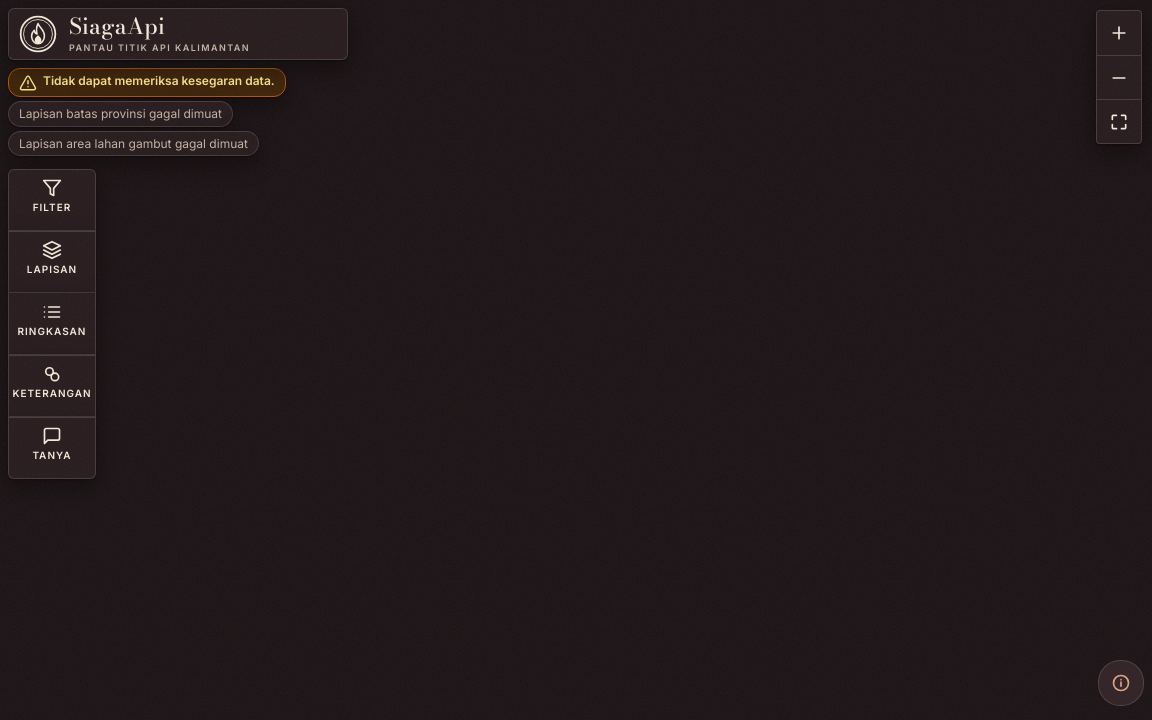
Scenario: opening a panel closes the one that was open
This screenshot has width=1152, height=720.
Click the button "Filter". click: click(52, 200)
box: [9,178,95,222]
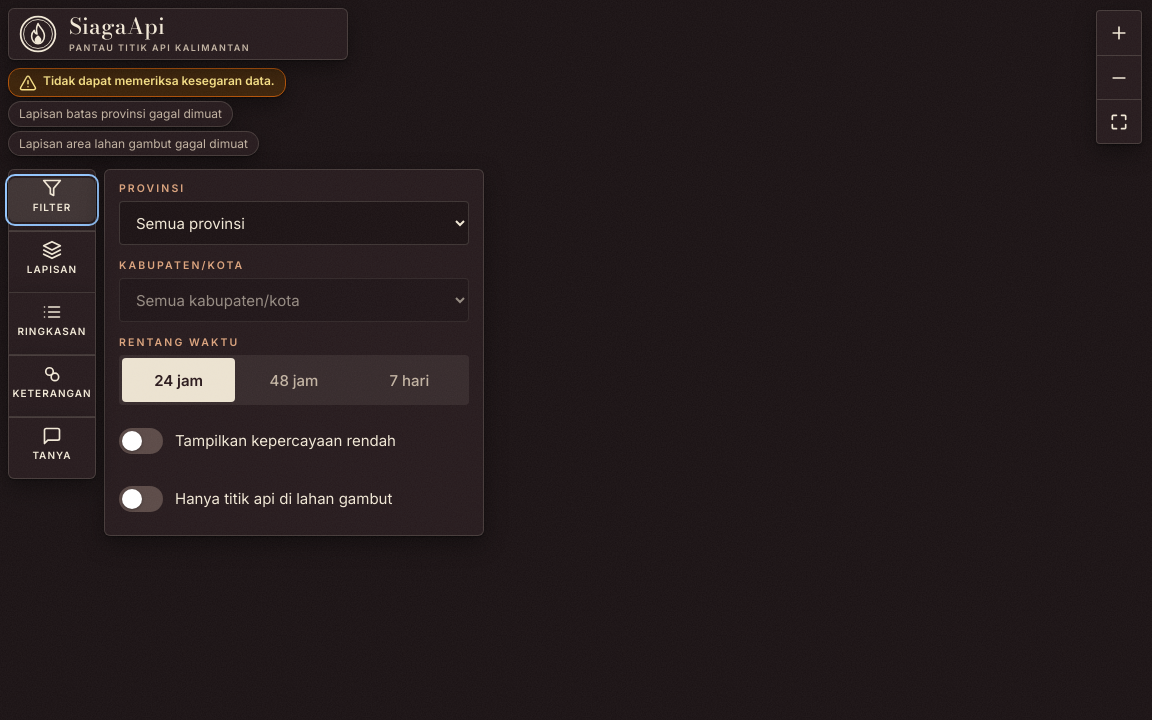
Now the dropdown labelled "Provinsi" is shown, box [119,201,469,245]
Click the button "Ringkasan". click: click(52, 324)
box: [9,302,95,346]
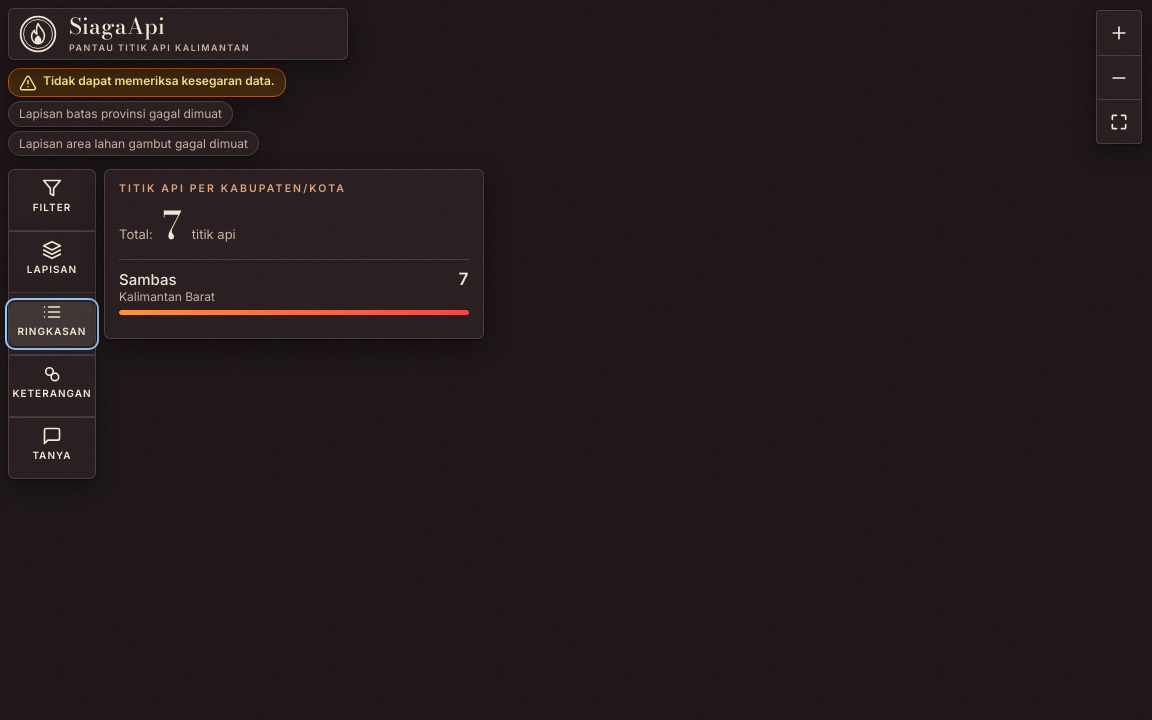
Now the button "Filter" is collapsed, box [9,178,95,222]
Now the button "Ringkasan" is expanded, box [9,302,95,346]
